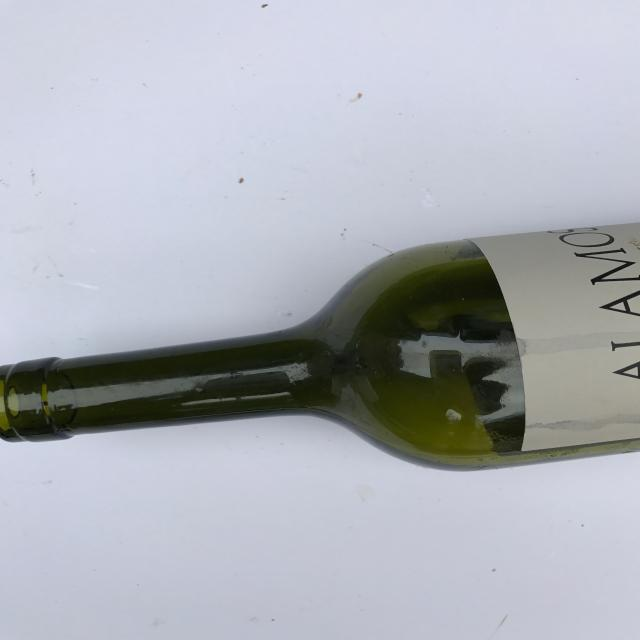glass: (0, 220, 640, 470)
